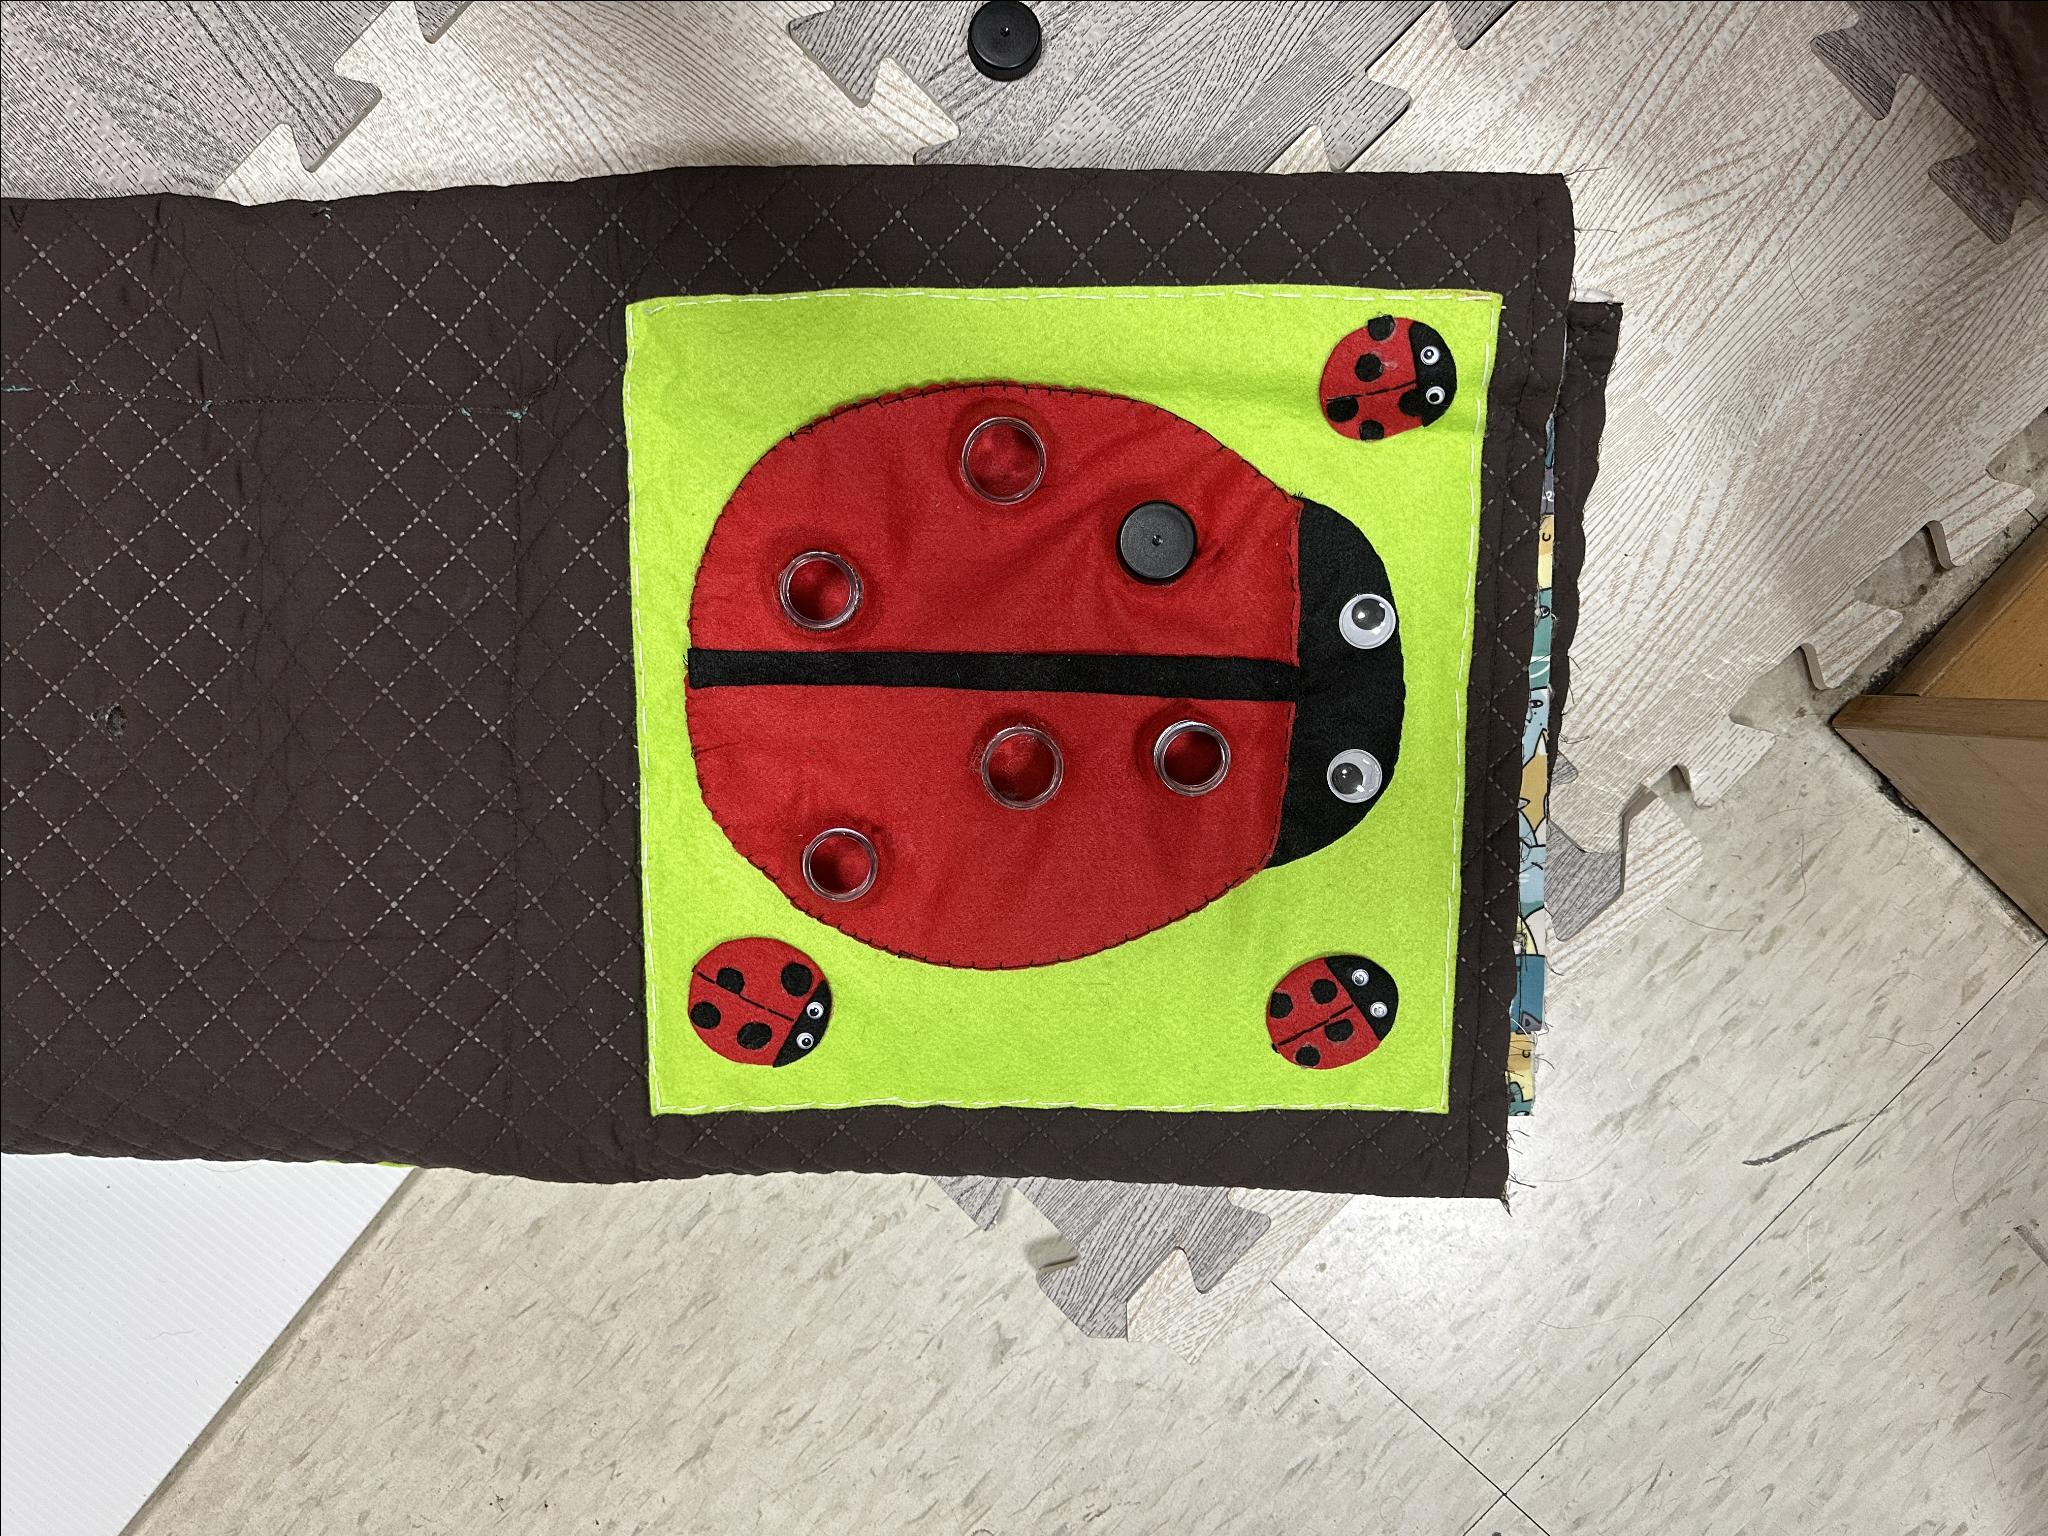cap_ok: (1092, 471, 1214, 621)
